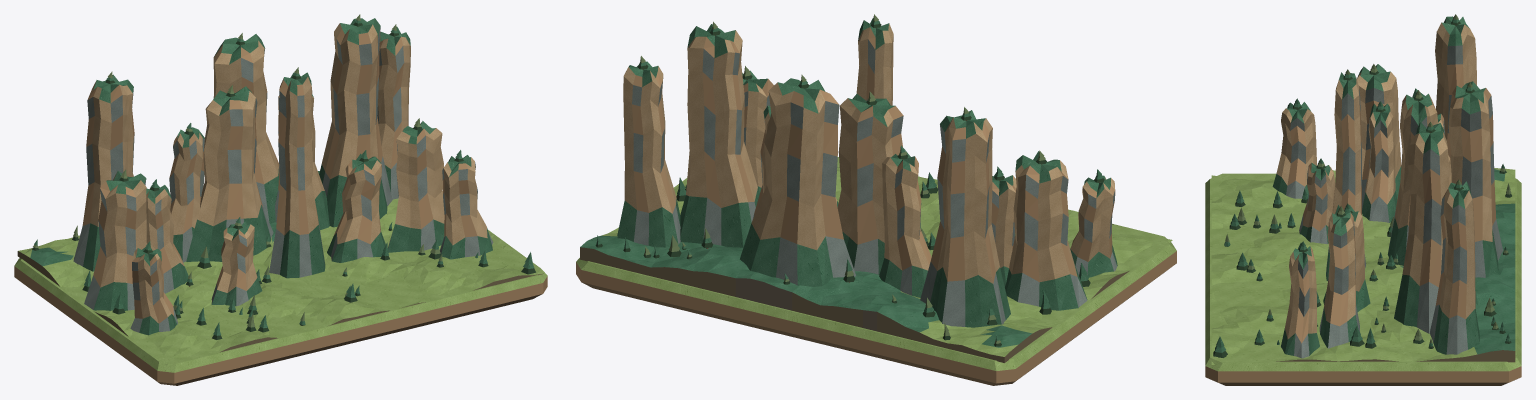
Rendered from wulingyuan.glb.
3 views of the same model, side by side, from view 1: azimuth 30°, elevation 25°; view 2: azimuth 150°, elevation 25°; view 3: azimuth 270°, elevation 25° (orthographic). The views are drawn at different scales.
Visible parts, largest first — view 1: 武陵源·张家界国家森林公园; view 2: 武陵源·张家界国家森林公园; view 3: 武陵源·张家界国家森林公园.
Part boxes in pixels (left/top/right/bottom): 武陵源·张家界国家森林公园: left=14, top=14, right=547, bottom=385; 武陵源·张家界国家森林公园: left=576, top=14, right=1176, bottom=385; 武陵源·张家界国家森林公园: left=1205, top=14, right=1521, bottom=385.
Size of the model in its own units: 6.15 by 3.38 by 4.25.
Materials: 11 (5 with a texture image).
